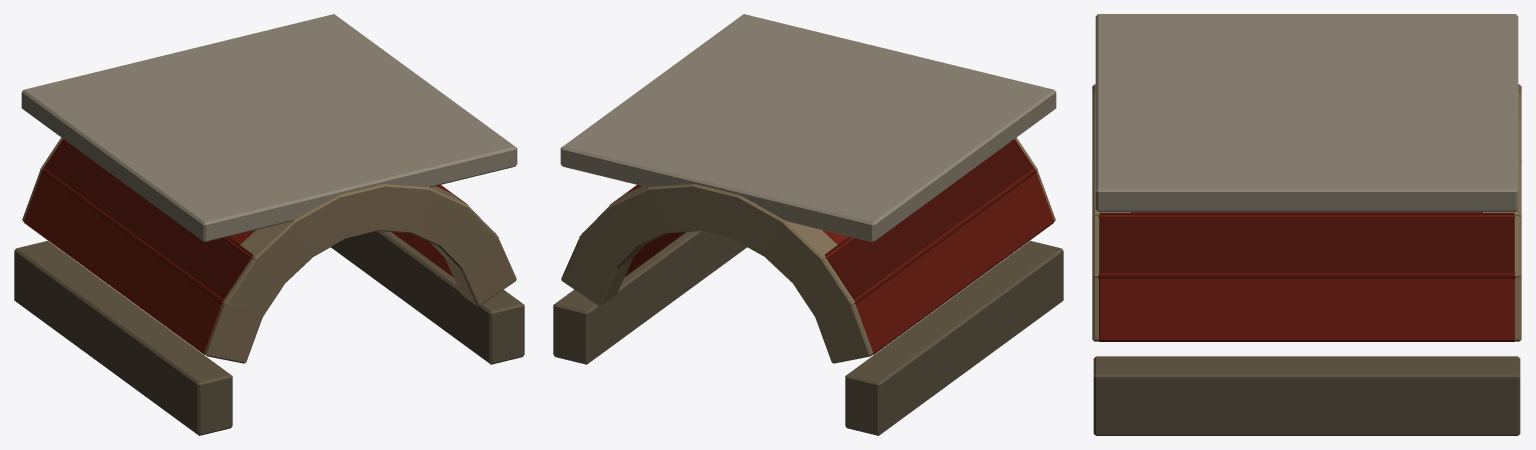
The model's file is mod_barrel_vault_2x2m.glb.
The picture shows the model from 3 angles, left to right: view 1: azimuth 30°, elevation 25°; view 2: azimuth 150°, elevation 25°; view 3: azimuth 270°, elevation 25°; orthographic projection. The views are drawn at different scales.
Visible parts, largest first — view 1: Mod_Barrel_Vault_2x2m; view 2: Mod_Barrel_Vault_2x2m; view 3: Mod_Barrel_Vault_2x2m.
Part boxes in pixels (x1,y1,x2,y2): Mod_Barrel_Vault_2x2m: [14, 14, 524, 435]; Mod_Barrel_Vault_2x2m: [553, 14, 1063, 435]; Mod_Barrel_Vault_2x2m: [1092, 14, 1521, 435].
Size of the model in its own units: 2.04 by 1.26 by 2.01.
